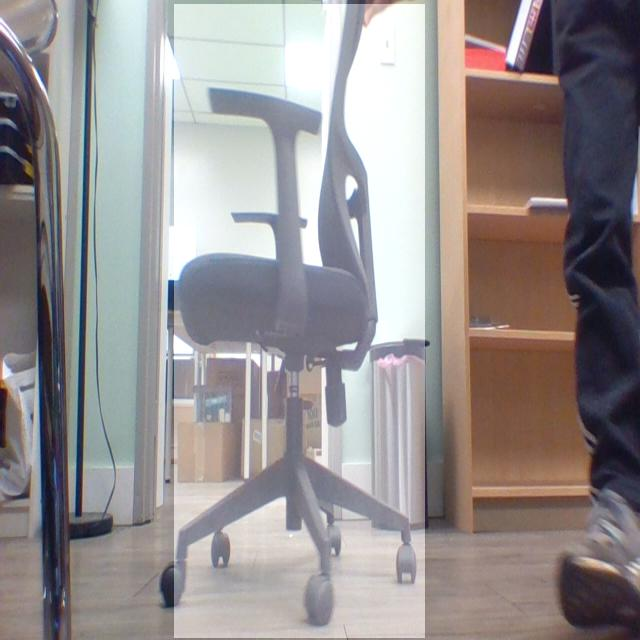black-chair: (174, 4, 426, 639)
